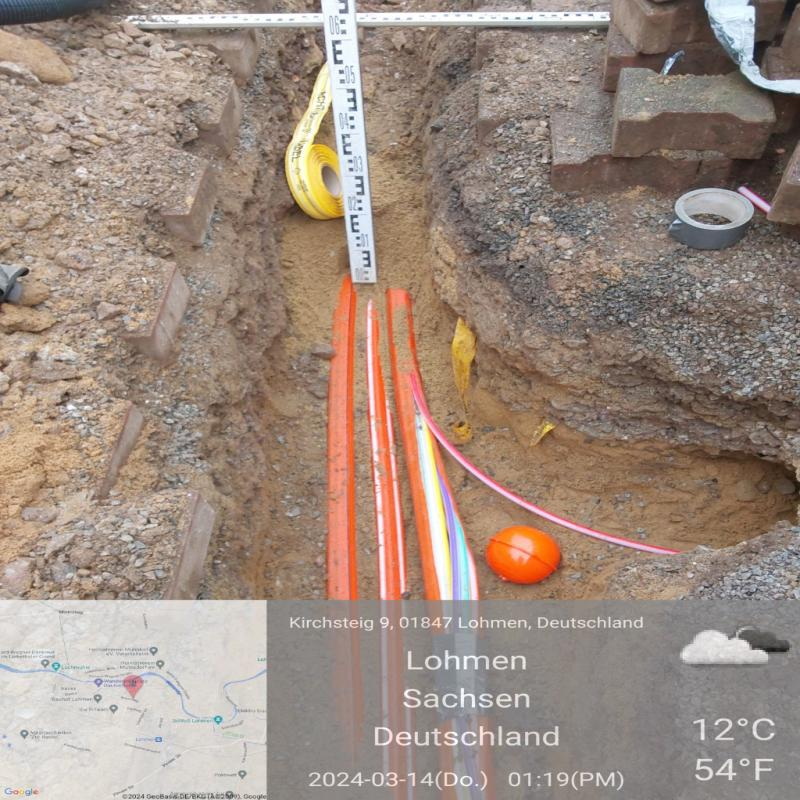Kugelmarker: (485, 527, 561, 583)
Orang-Speednetrohrchen: (388, 291, 478, 598), (368, 326, 400, 601), (329, 274, 354, 600)
